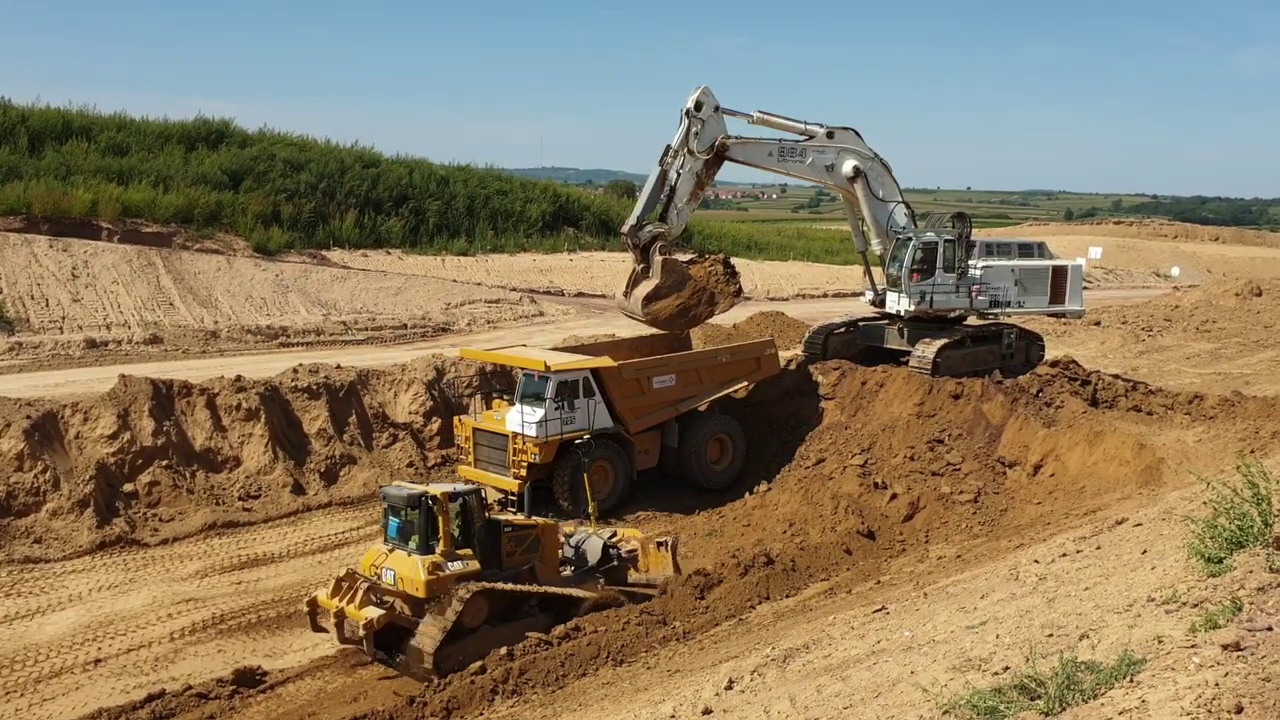bulldozer: (304, 430, 687, 682)
excavator: (612, 82, 1092, 386)
truck: (440, 326, 791, 524)
